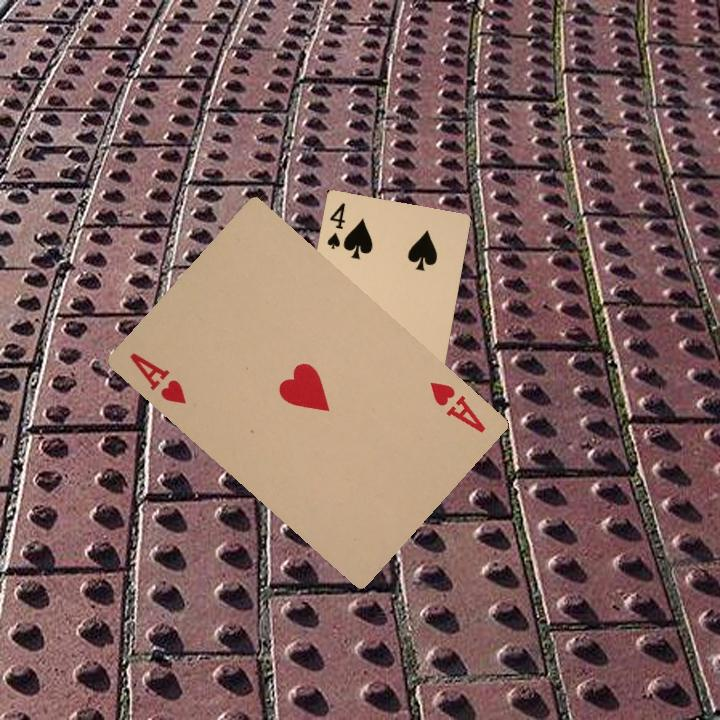4s: (323, 199, 348, 252)
Ah: (125, 348, 189, 407), (425, 377, 488, 436)
